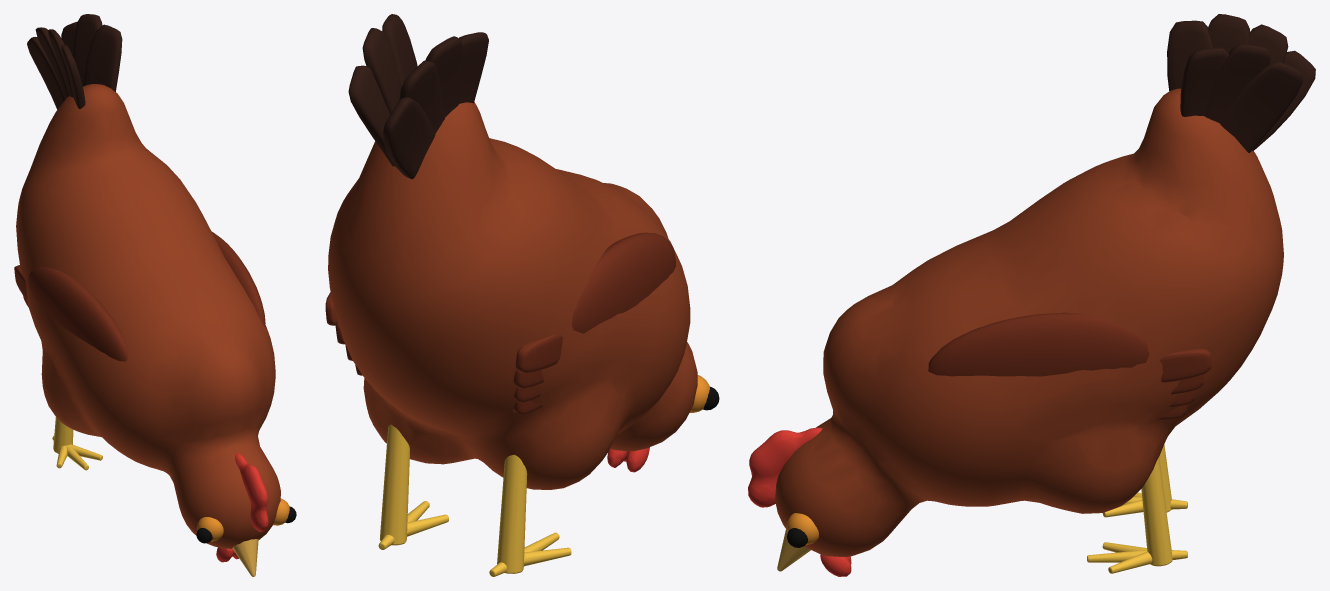
Rendered from hen_peck.fbx.
3 renders of one model, left to right at view 1: azimuth 30°, elevation 25°; view 2: azimuth 150°, elevation 25°; view 3: azimuth 270°, elevation 25°, orthographic. The views are drawn at different scales.
Visible parts, largest first — view 1: hen_peck; view 2: hen_peck; view 3: hen_peck.
Part boxes in pixels (x1,y1,x2,y2): hen_peck: (14, 14, 296, 576); hen_peck: (325, 14, 719, 576); hen_peck: (748, 14, 1315, 576).
Bounding box in the file's own units: 0.2331 × 0.5316 × 0.5045.
